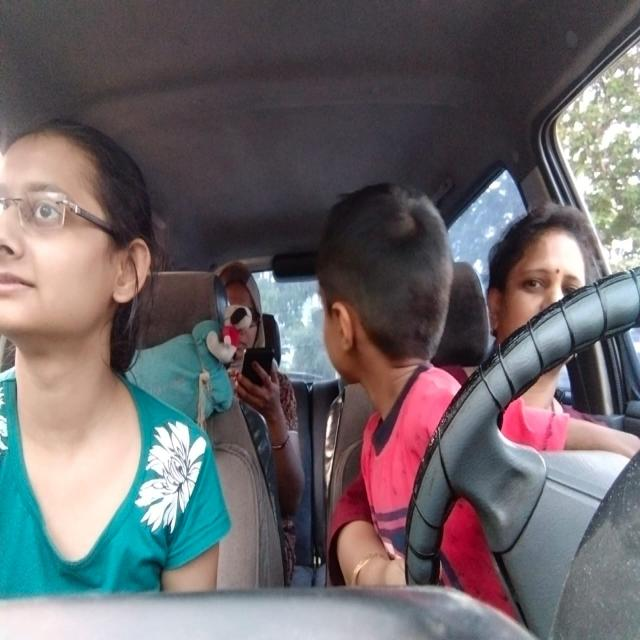child: (319, 175, 451, 407)
person: (3, 107, 158, 358), (484, 194, 595, 414), (218, 255, 278, 365)
